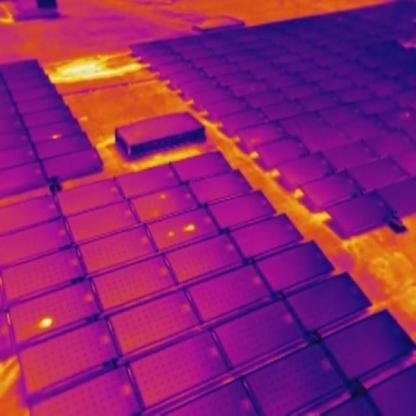anomaly: (36, 313, 57, 333), (183, 221, 196, 235), (165, 228, 179, 241), (155, 192, 169, 202)
